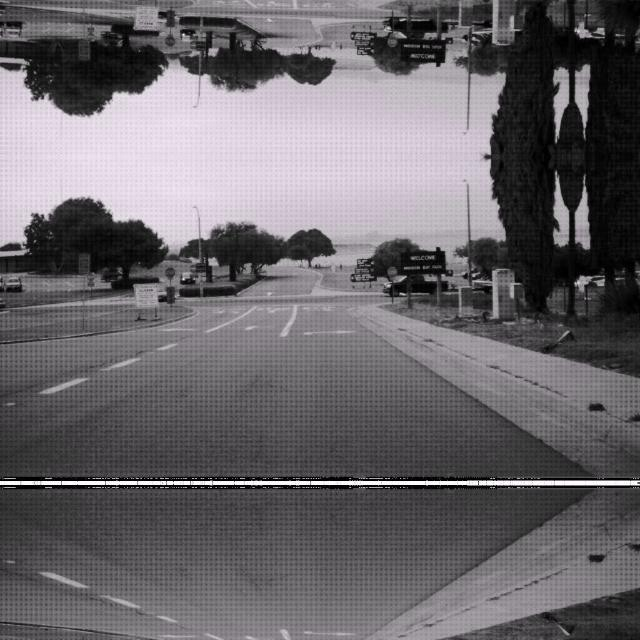stop: (386, 264, 396, 276), (164, 266, 176, 276), (386, 36, 396, 48), (164, 36, 176, 46)
